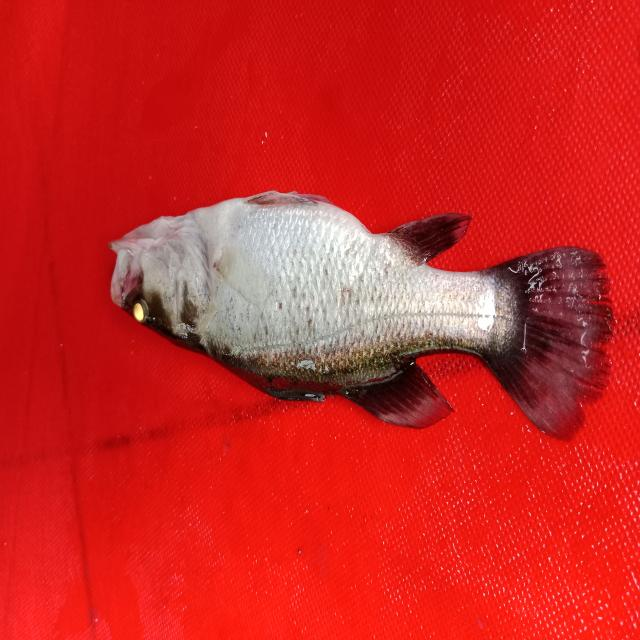ikan: (92, 165, 624, 474)
